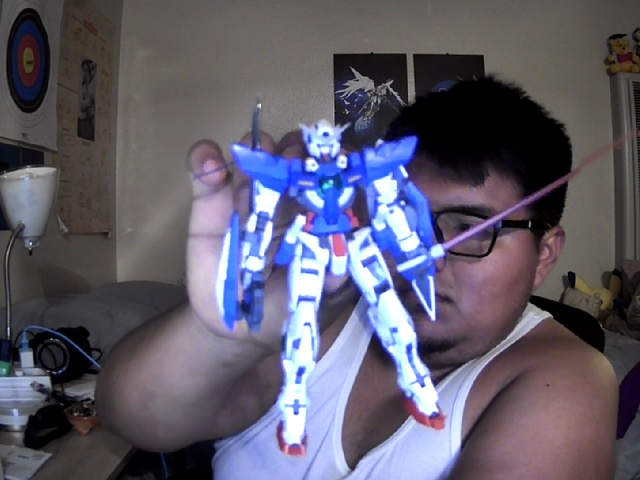Exia: (215, 97, 637, 456)
